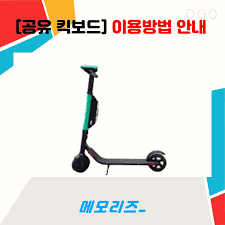kick_board: (73, 65, 167, 173)
kick_body: (101, 159, 147, 163)
kick_handler: (80, 63, 99, 78)
kick_neck: (80, 81, 97, 148)
kick_wheel: (149, 151, 167, 171), (73, 154, 90, 173)
